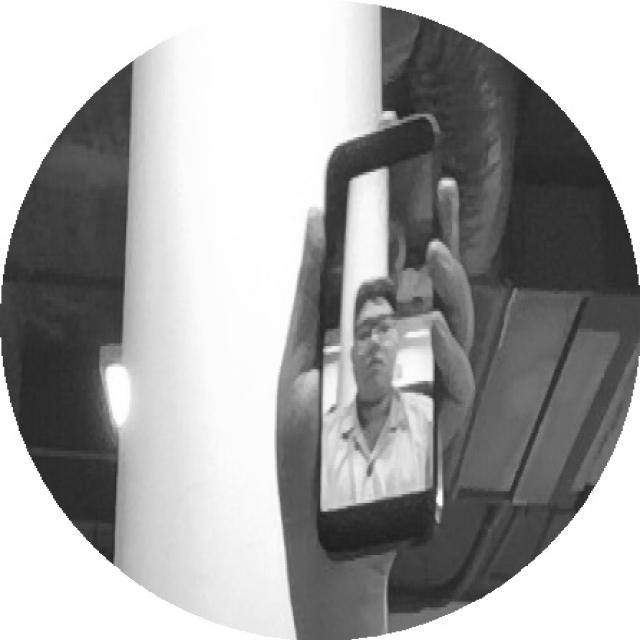fake: (282, 99, 495, 563), (307, 112, 447, 564)
